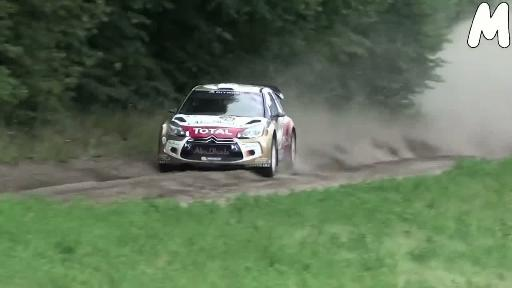CAR: (146, 72, 308, 180)
